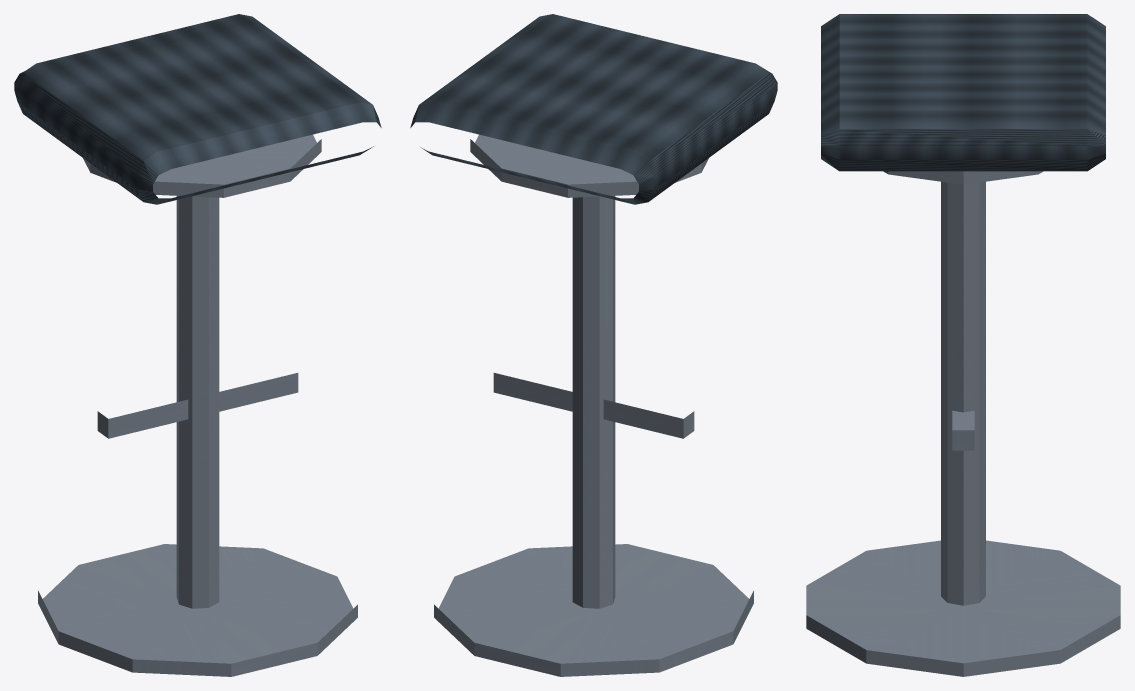
The model's file is tt_bar_stool.glb.
3 views of the same model, side by side, from view 1: azimuth 30°, elevation 25°; view 2: azimuth 150°, elevation 25°; view 3: azimuth 270°, elevation 25° (orthographic). The views are drawn at different scales.
Visible parts, largest first — view 1: Stool_Frame, Stool_Cushions; view 2: Stool_Frame, Stool_Cushions; view 3: Stool_Frame, Stool_Cushions.
Boxes of the visible parts, x1,y1,x2,y2 form: Stool_Frame: (38, 134, 357, 676); Stool_Cushions: (14, 14, 381, 204); Stool_Frame: (434, 134, 753, 676); Stool_Cushions: (410, 14, 777, 204); Stool_Frame: (806, 171, 1120, 676); Stool_Cushions: (821, 14, 1105, 171).
Size of what is drawn, in the model's own units: 0.44 by 0.796 by 0.4185.
Materials: 2 (2 with a texture image).
